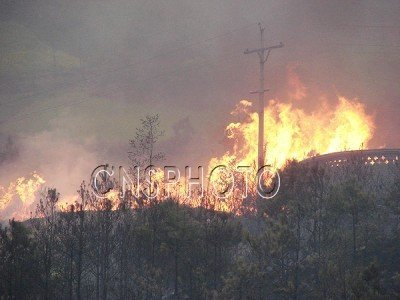fire: (242, 105, 371, 154)
